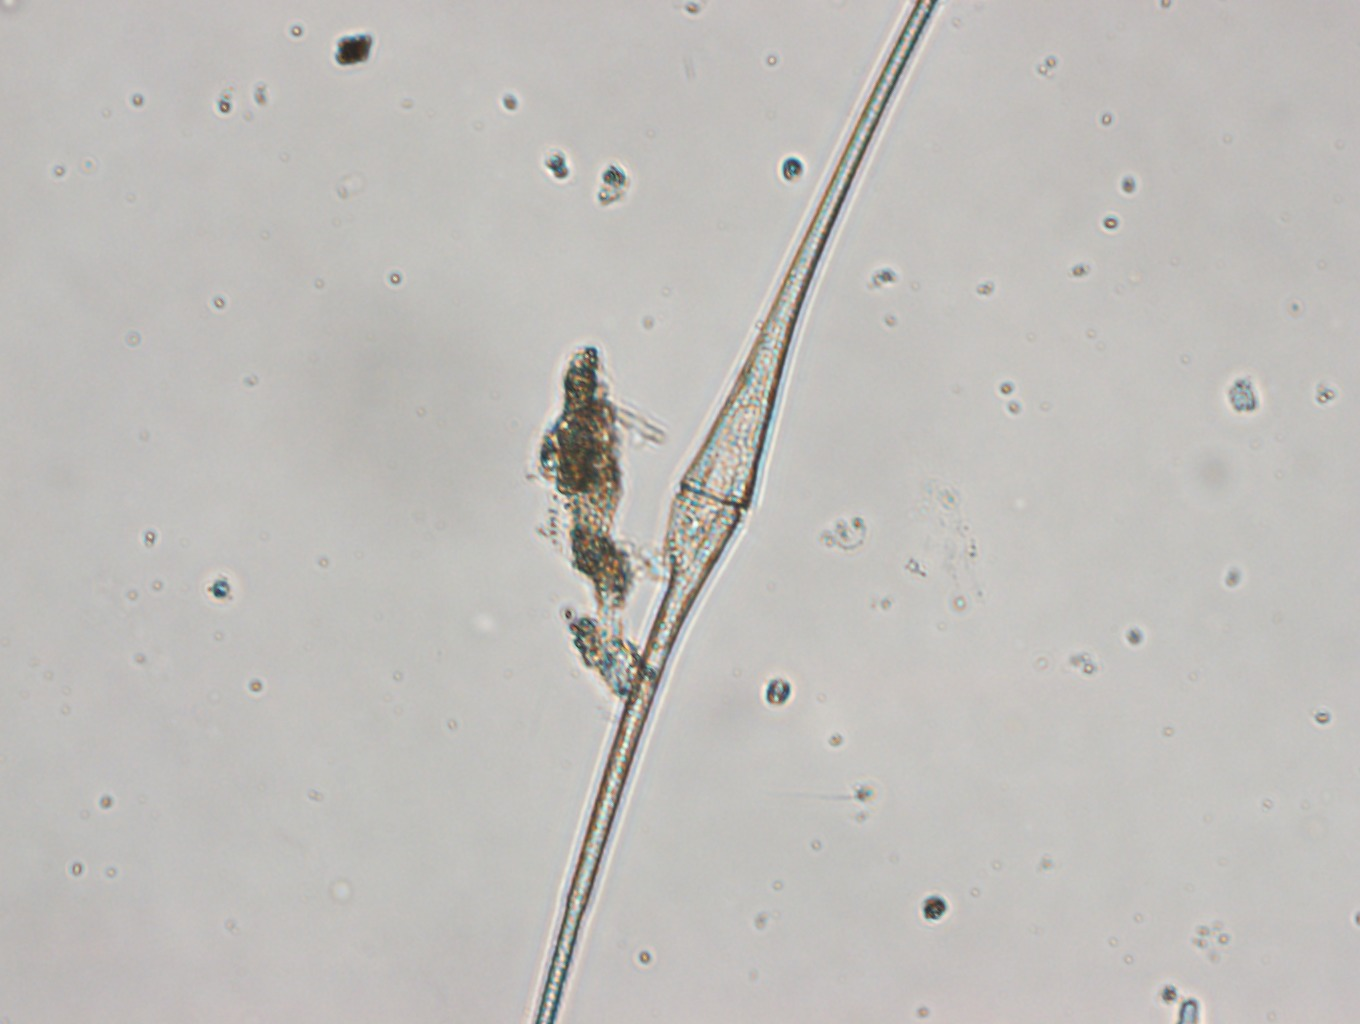ceratium fusus: (535, 1, 939, 1024)
